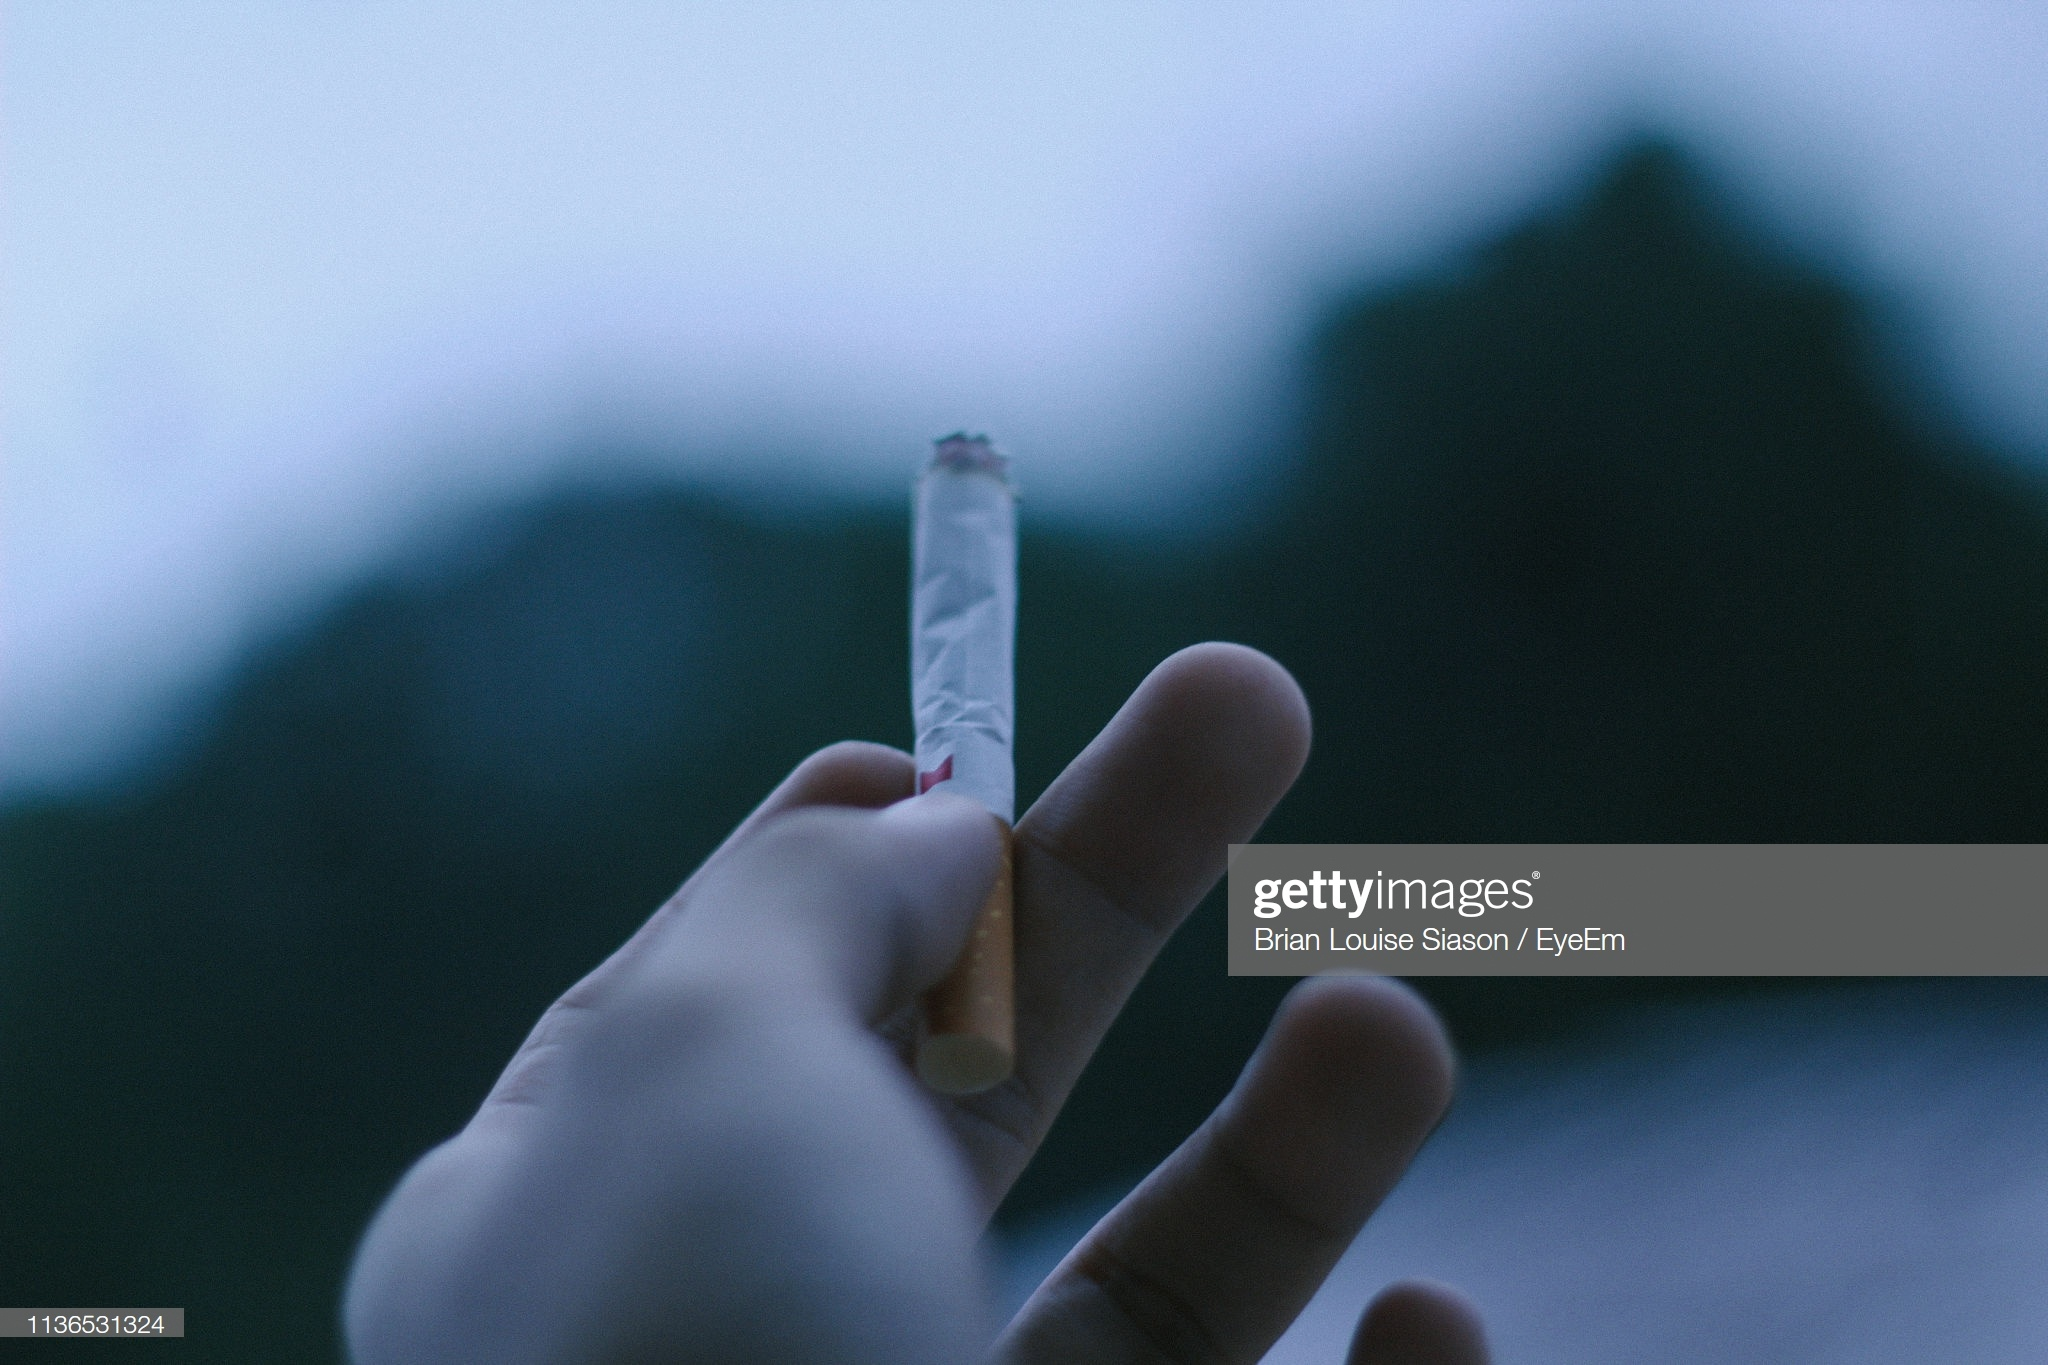sigaretta: (898, 439, 1026, 1063)
